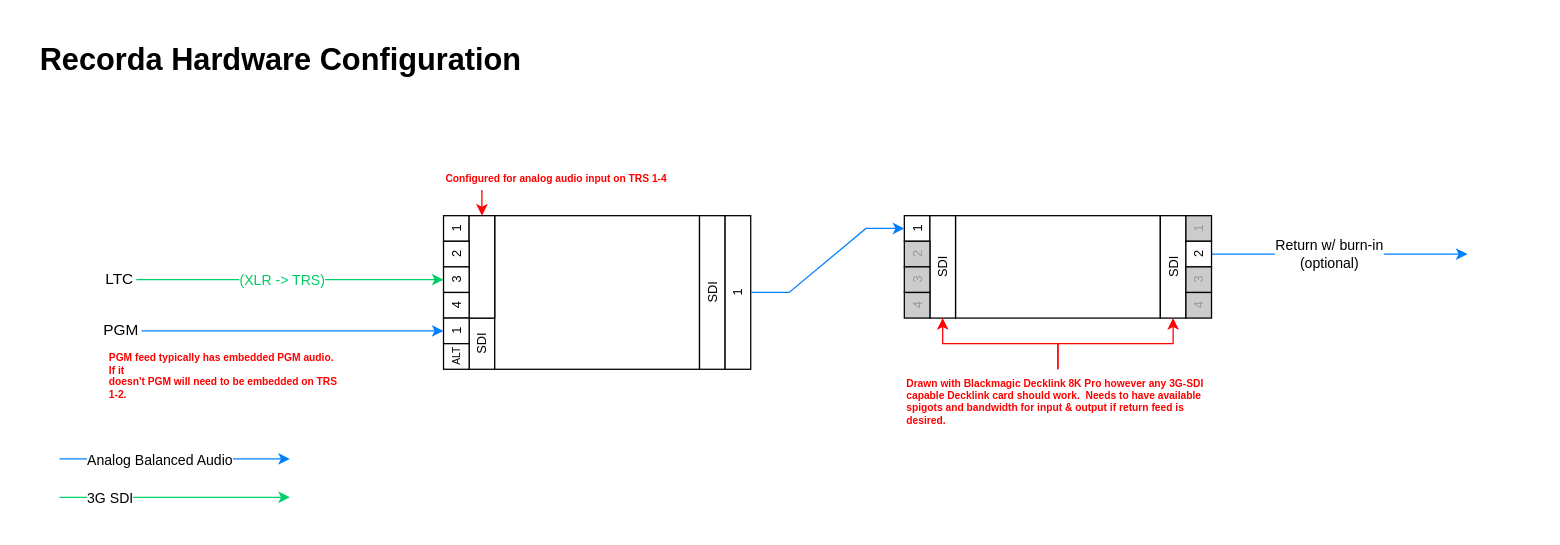
The diagram is 1560 pixels wide and 545 high, and some of its shapes have lost their labels. The shapes that lost their labels are listed below. From the top down, each one's centre as x and y in pixels, then its label:
the point at 481,266: TRS
the point at 1057,266: Capture Computer
the point at 596,291: BMD Audio -> SDI Converter
